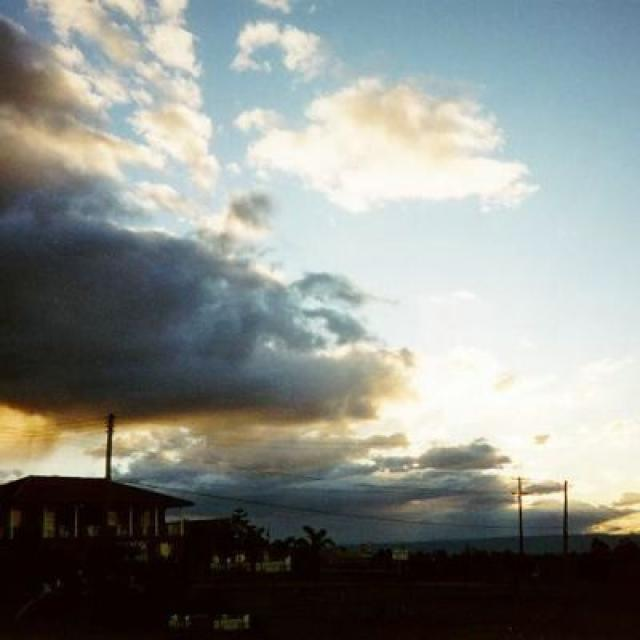Sc: (1, 27, 640, 433)
